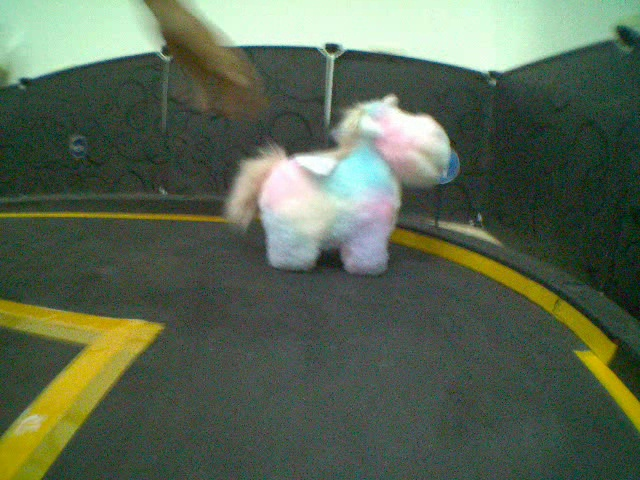unicorn: (215, 89, 453, 277)
